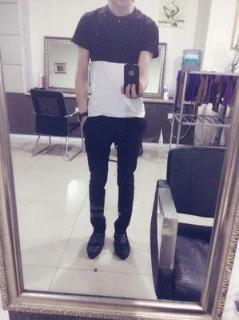short sleeve top: (71, 4, 159, 117)
trousers: (83, 105, 147, 234)
